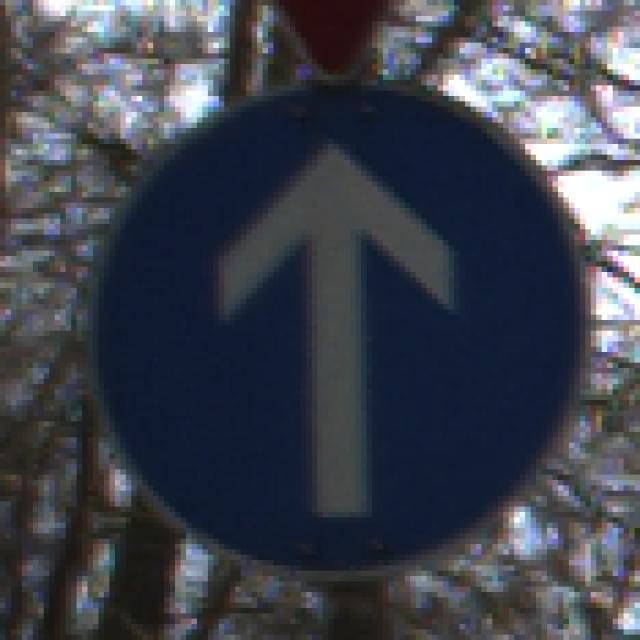compulsary ahead: (106, 79, 584, 566)
